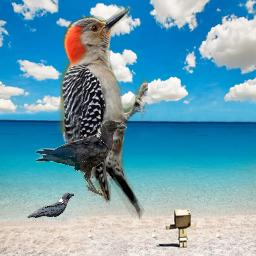Crow: (35, 120, 127, 196), (27, 193, 74, 218)
Woodpecker: (53, 3, 148, 231)
